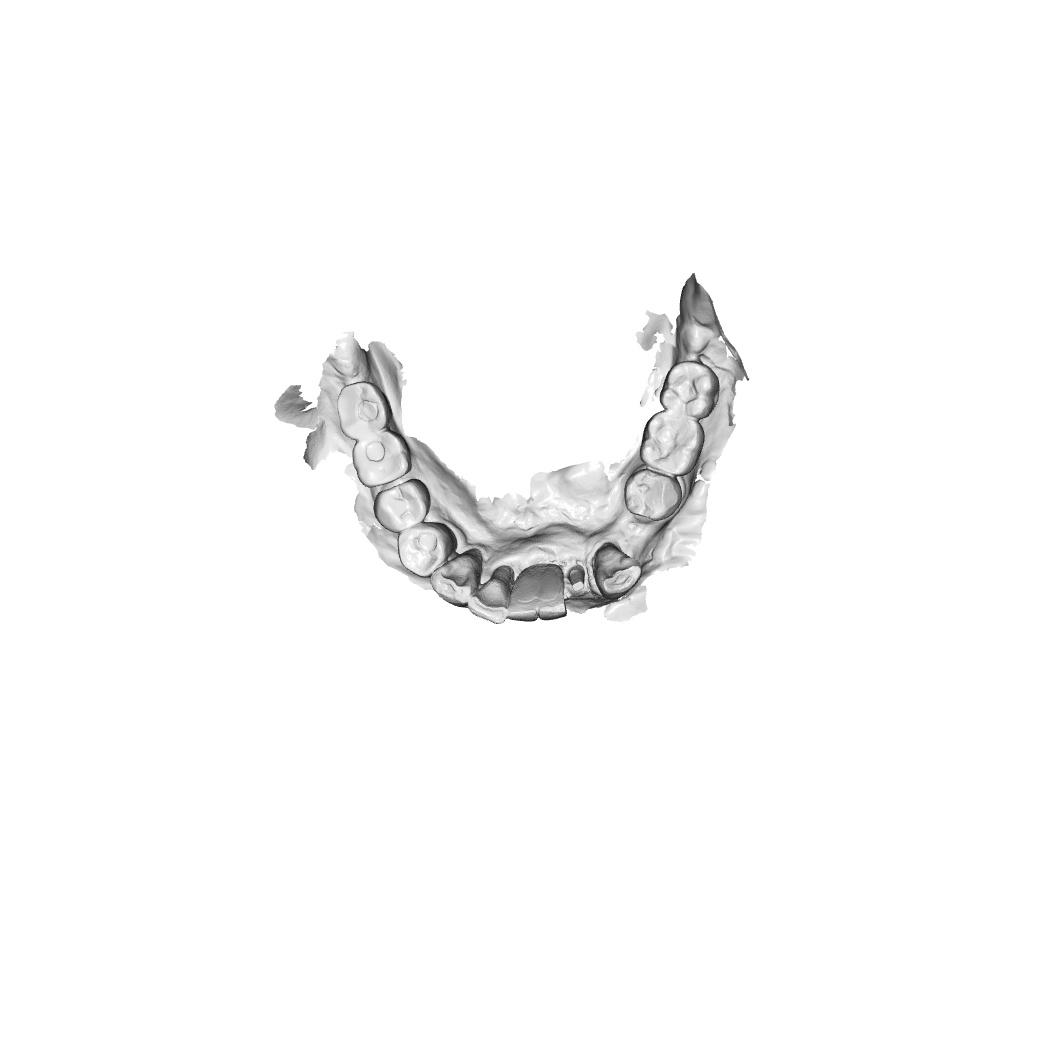abutment: (568, 564, 587, 593)
canine: (429, 547, 483, 609), (593, 540, 643, 600)
incisor: (467, 565, 514, 626), (508, 563, 539, 623), (537, 562, 567, 622)
molar: (639, 408, 706, 478), (350, 428, 413, 490), (658, 360, 720, 420), (336, 381, 394, 441)
premolar: (396, 520, 458, 579), (372, 476, 432, 534), (623, 468, 683, 522)
